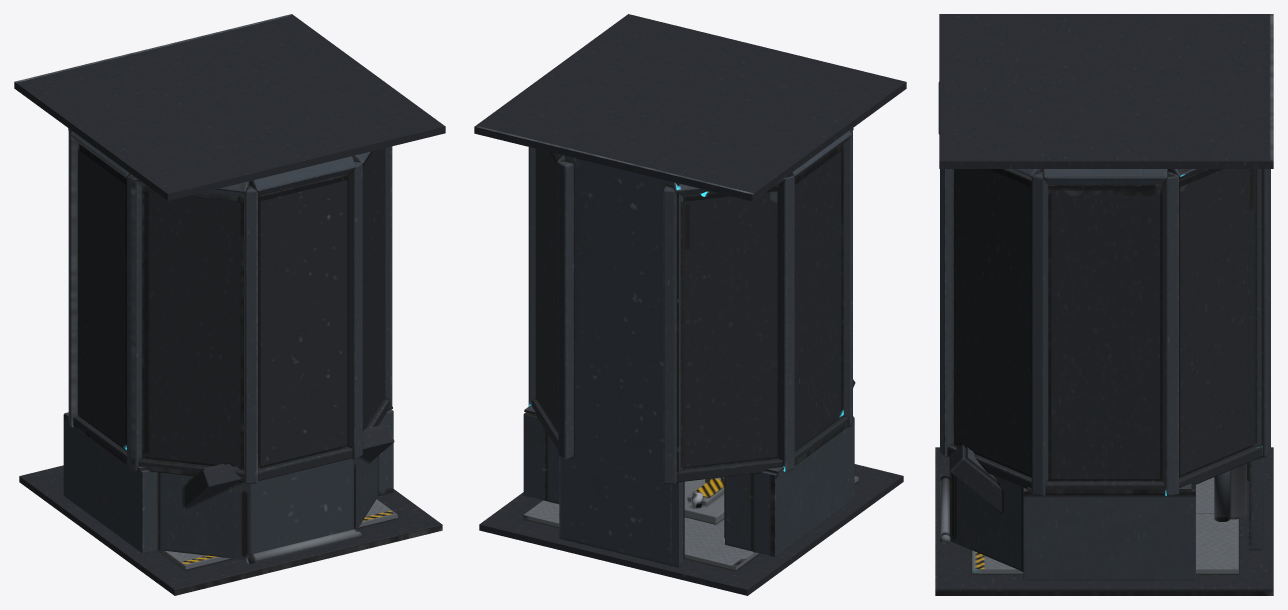
The model's file is cockpit_harness.gltf.
3 views of the same model, side by side, from view 1: azimuth 30°, elevation 25°; view 2: azimuth 150°, elevation 25°; view 3: azimuth 270°, elevation 25° (orthographic). The views are drawn at different scales.
Visible parts, largest first — view 1: pod_cabin, INNER_side_R_cabin, INNER_front_cabin, INNER_side_L_cabin, CONSOLE_front_cabin, CONSOLE_front_front; view 2: pod_cabin; view 3: pod_cabin, INNER_side_L_cabin, CONSOLE_front_front.
Part boxes in pixels (x1,y1,x2,y2): pod_cabin: (14,14,445,595); INNER_side_R_cabin: (136,178,257,560); INNER_front_cabin: (250,156,355,481); INNER_side_L_cabin: (347,148,389,528); CONSOLE_front_cabin: (250,458,353,554); CONSOLE_front_front: (185,424,394,554); pod_cabin: (474,14,906,595); pod_cabin: (935,14,1273,595); INNER_side_L_cabin: (940,169,1042,571); CONSOLE_front_front: (950,444,1001,537).
Size of the model in its own units: 1.7 by 2.35 by 1.65.
Materials: 9 (8 with a texture image).
